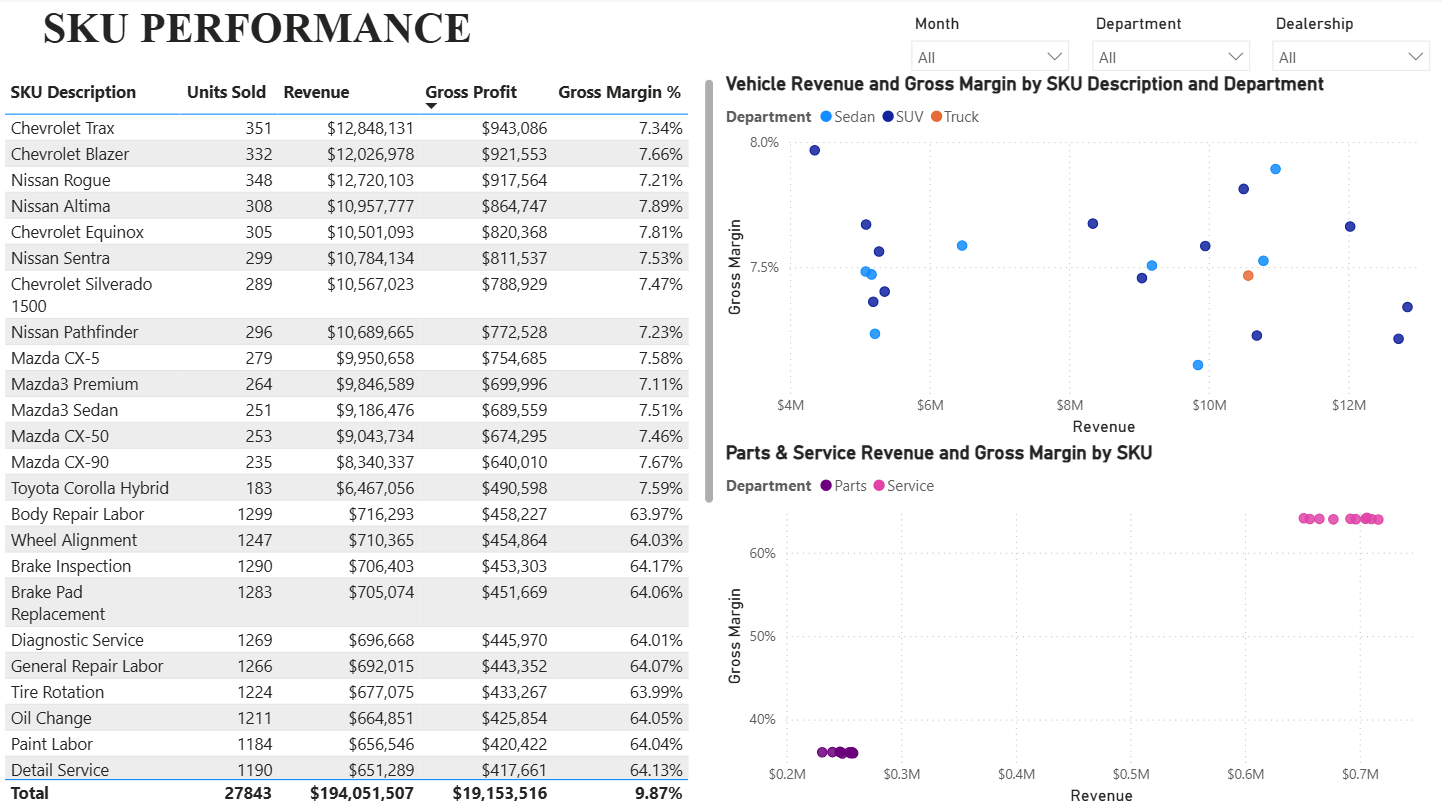

Layout of this report page (visuals, bound fields, positions):
{"tool":"powerbi","page":{"name":"SKU_Level_Detail","canvas":[1280,720],"ordinal":1},"visuals":[{"type":"tableEx","fields":{"Values":["dim_sku.sku_description","measures_table.Sales_Count","measures_table.Measure","measures_table.Rebate_Adjusted_Gross_Profit","measures_table.Gross_Profit_%"]},"box":[0,66.4,640,653.6],"z":0},{"type":"textbox","box":[34.5,0,404.5,67.3],"z":1000},{"type":"scatterChart","title":"Vehicle Revenue and Gross Margin by SKU Description and Department","fields":{"Category":["dim_sku.sku_description"],"X":["measures_table.Rebate_Adjusted_Revenue"],"Y":["measures_table.Gross_Profit_%"],"Series":["dim_sku.department"]},"box":[640,65.5,640,327.3],"z":2000},{"type":"slicer","fields":{"Values":["dim_date.month_short_name"]},"box":[800,10,160,55.5],"z":3000},{"type":"slicer","fields":{"Values":["dim_sku.department"]},"box":[960,10,160,55.5],"z":4000},{"type":"slicer","fields":{"Values":["dim_dealer.dealership_name"]},"box":[1120,10,160,55.5],"z":5000},{"type":"scatterChart","title":"Parts & Service Revenue and Gross Margin by SKU","fields":{"Category":["dim_sku.sku_description"],"X":["measures_table.Rebate_Adjusted_Revenue"],"Y":["measures_table.Gross_Profit_%"],"Series":["dim_sku.department"]},"box":[640,392.7,640,327.3],"z":6000}]}

Visuals, with their boxes in screenshot pixels (x1, y1, x2, y2), scaled from the page's 1280x720 canvas onto the 1442x809 screenshot:
tableEx - dim_sku.sku_description x measures_table.Sales_Count: {"left": 0, "top": 75, "right": 721, "bottom": 808}
textbox: {"left": 39, "top": 0, "right": 495, "bottom": 76}
"Vehicle Revenue and Gross Margin by SKU Description and Department" scatterChart: {"left": 721, "top": 74, "right": 1441, "bottom": 441}
slicer - dim_date.month_short_name: {"left": 901, "top": 11, "right": 1082, "bottom": 74}
slicer - dim_sku.department: {"left": 1082, "top": 11, "right": 1262, "bottom": 74}
slicer - dim_dealer.dealership_name: {"left": 1262, "top": 11, "right": 1441, "bottom": 74}
"Parts & Service Revenue and Gross Margin by SKU" scatterChart: {"left": 721, "top": 441, "right": 1441, "bottom": 808}
